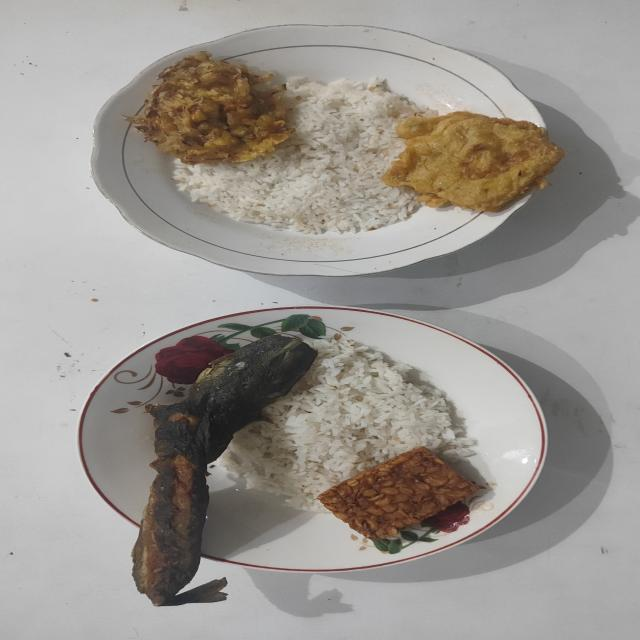nasi_putih: (220, 339, 477, 512), (172, 78, 436, 238)
tempe_goreng: (318, 447, 480, 541)
